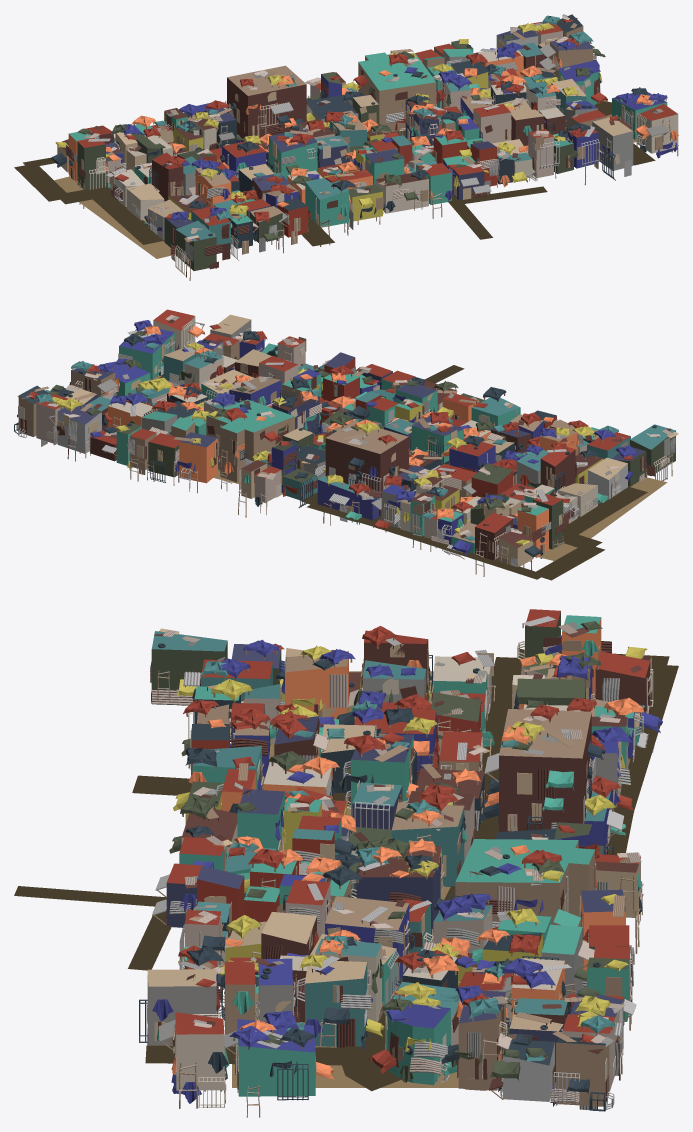
Rendered from TD_Env5.fbx.
3 views of the same model, one above another, from view 1: azimuth 30°, elevation 25°; view 2: azimuth 150°, elevation 25°; view 3: azimuth 270°, elevation 25° (orthographic). The views are drawn at different scales.
Visible parts, largest first — view 1: Env_TD_05; view 2: Env_TD_05; view 3: Env_TD_05.
Boxes of the visible parts, box(x1,y1,x2,y2) form: Env_TD_05: box(14, 14, 678, 280); Env_TD_05: box(14, 309, 678, 580); Env_TD_05: box(14, 609, 678, 1117).
Size of the model in its own units: 8879 by 1388 by 5396.
3 materials, 1 textured.
